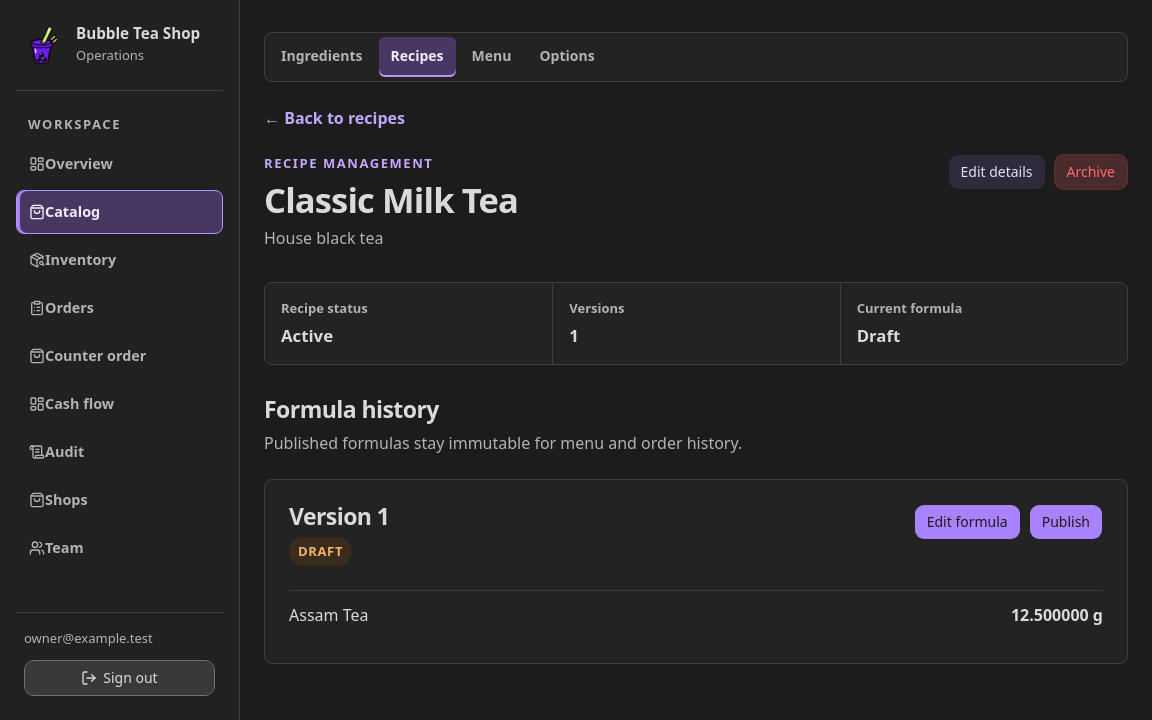
Scenario: App › reloads recipe state and explains a formula version conflict
The image size is (1152, 720).
Check: the heading "Classic Milk Tea" is shown, box [264,182,518,218]
Click the button "Edit formula".
click(967, 522)  # box [914,504,1021,540]
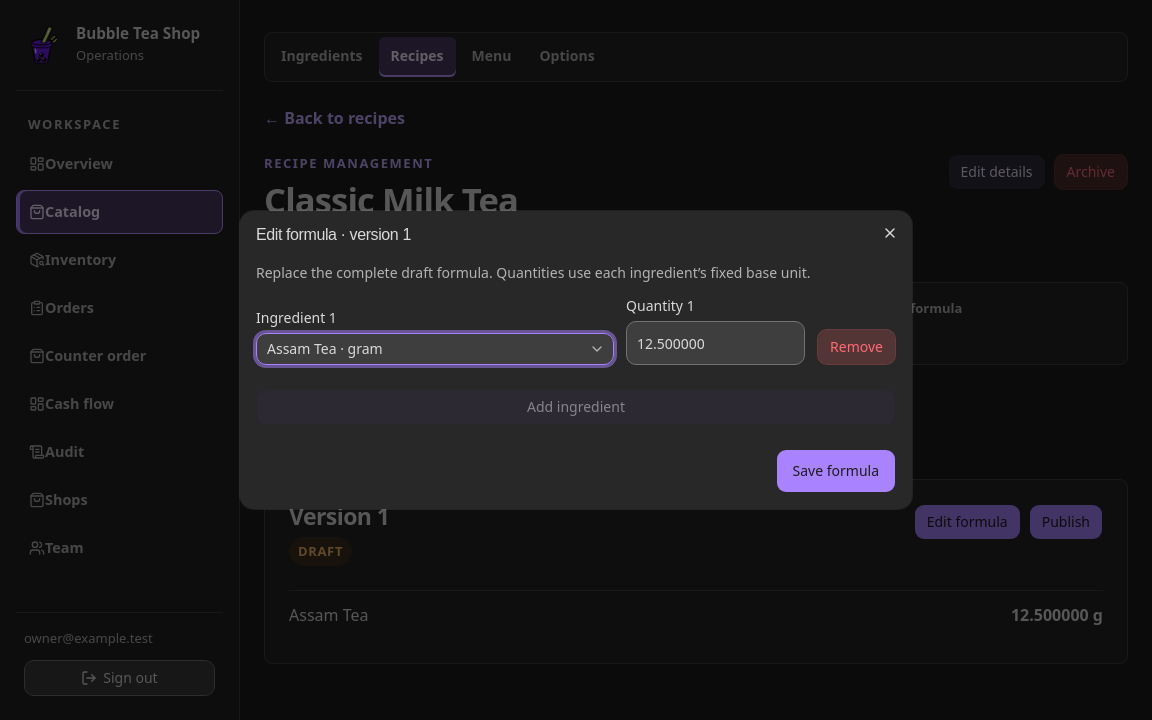
Click the button "Save formula".
click(836, 471)  # box [776,449,896,493]
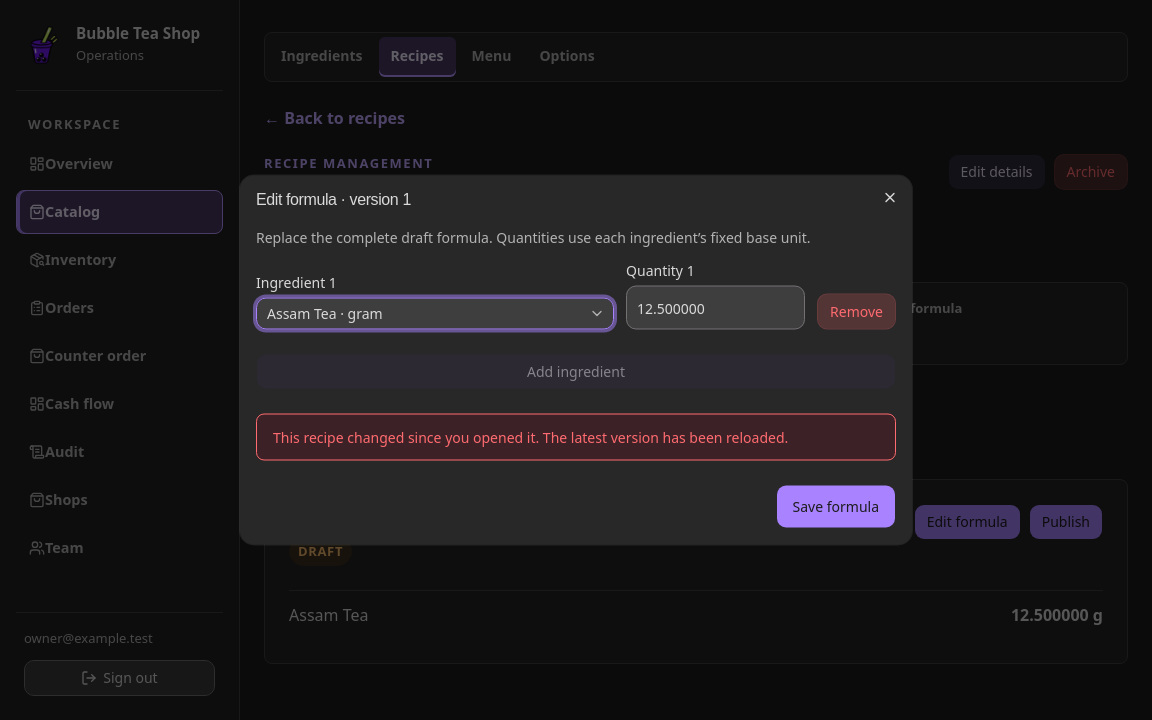
Check: the message shows "changed since you opened it", box [273,428,788,446]
